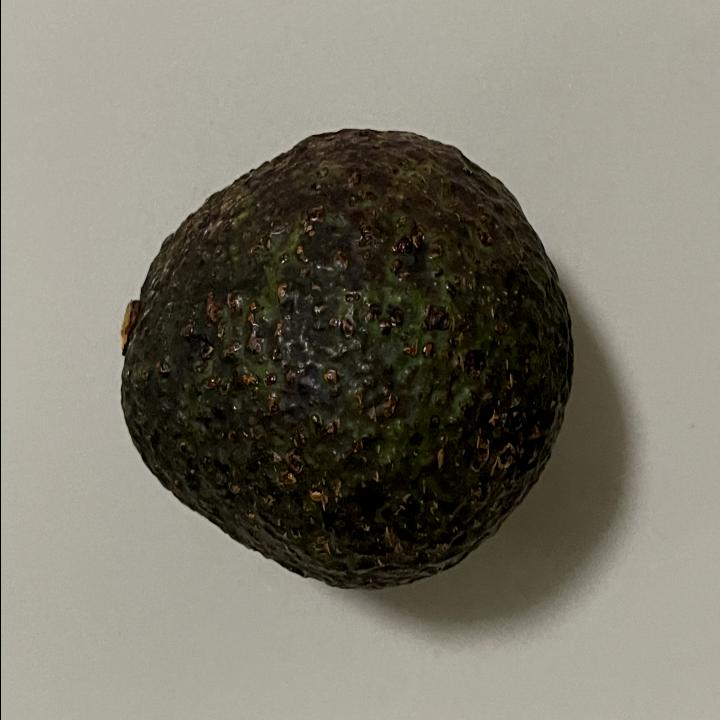Level1: (100, 112, 588, 606)
